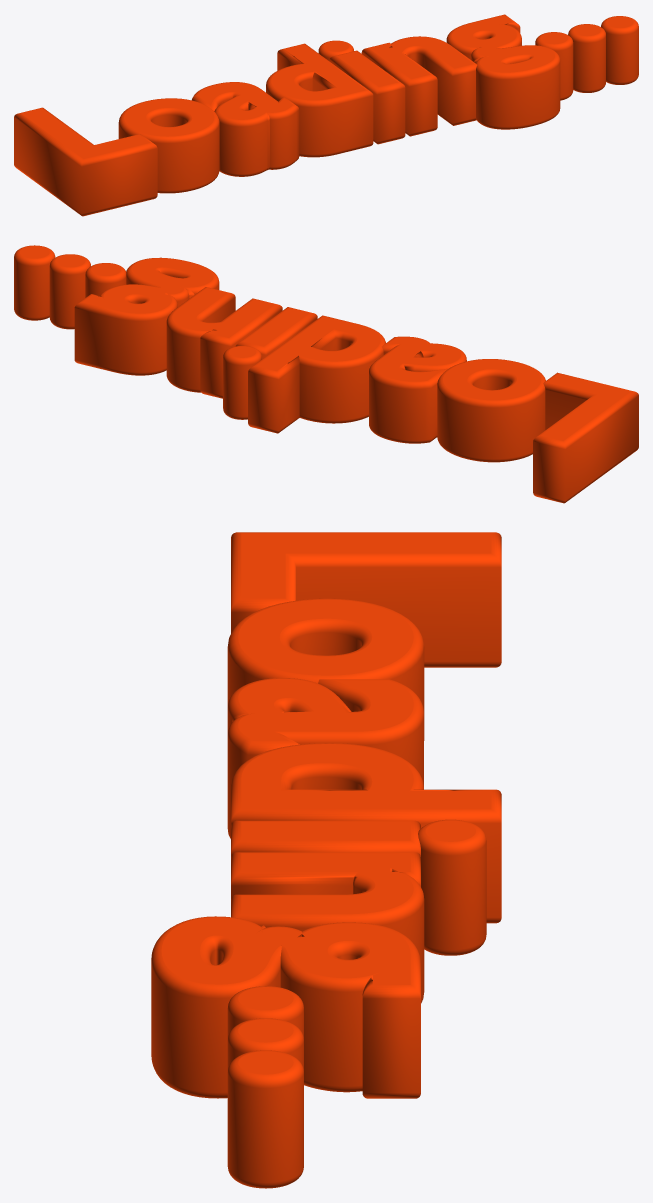
File: loader.gltf
The picture shows the model from 3 angles, top to bottom: view 1: azimuth 30°, elevation 25°; view 2: azimuth 150°, elevation 25°; view 3: azimuth 270°, elevation 25°; orthographic projection. The views are drawn at different scales.
Visible parts, largest first — view 1: Text; view 2: Text; view 3: Text.
Part boxes in pixels (<box>): Text: <box>14,14,638,216</box>; Text: <box>14,245,638,503</box>; Text: <box>151,532,501,1188</box>.
Bounding box in the file's own units: 3.76 × 0.36 × 1.01.
